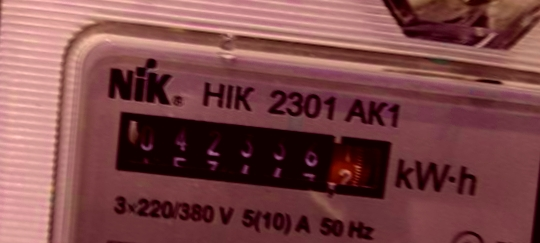0: (137, 125, 156, 155)
1: (340, 142, 355, 166)
2: (205, 129, 224, 160), (336, 168, 354, 188)
3: (269, 133, 288, 165), (237, 132, 255, 161)
4: (172, 124, 192, 155)
6: (303, 139, 323, 171)
screen: (102, 99, 405, 213)
